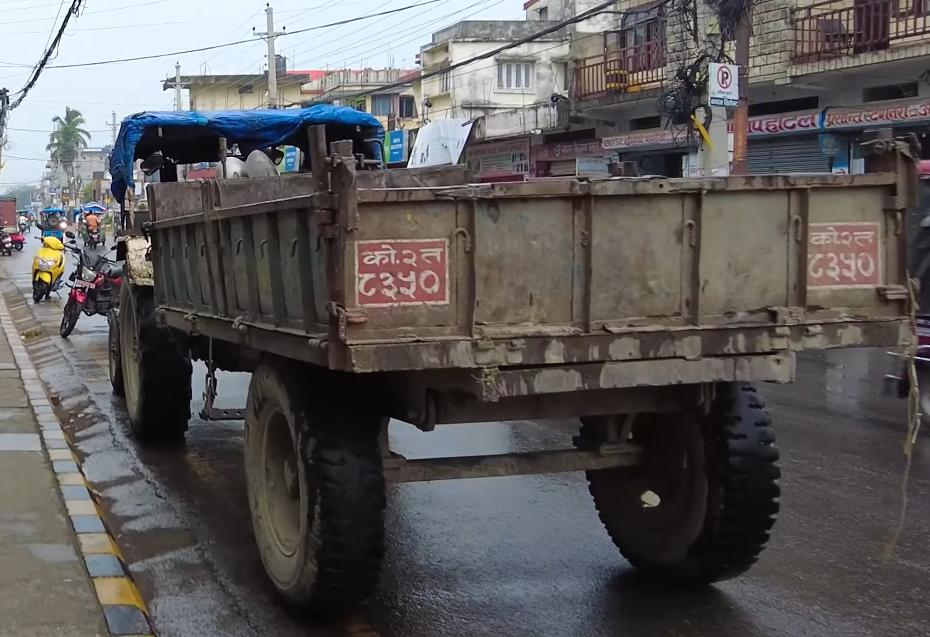bike: (58, 239, 131, 342)
scooter: (28, 227, 75, 309)
tractor: (94, 82, 915, 630)
